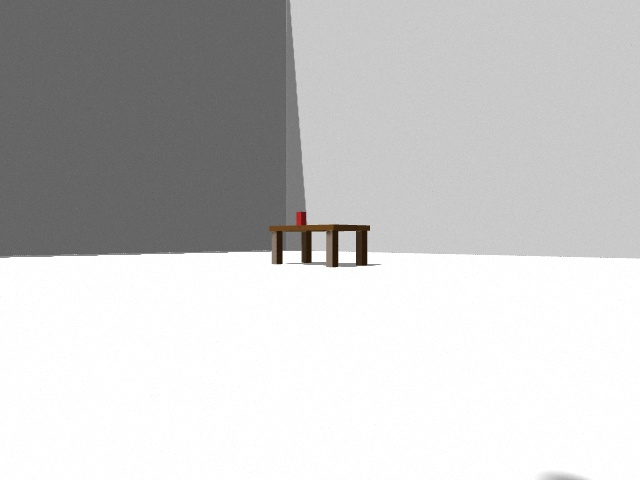red_cube: (296, 212, 302, 226)
